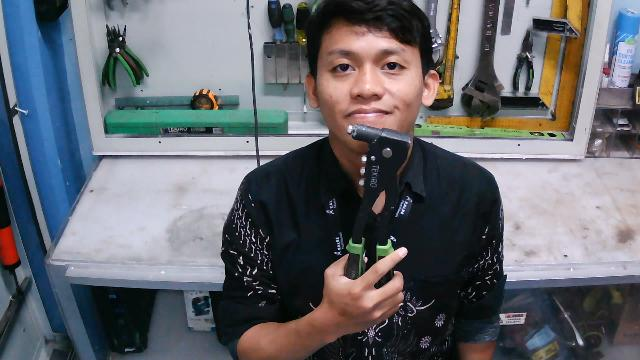tang_rivet: (345, 122, 412, 307)
